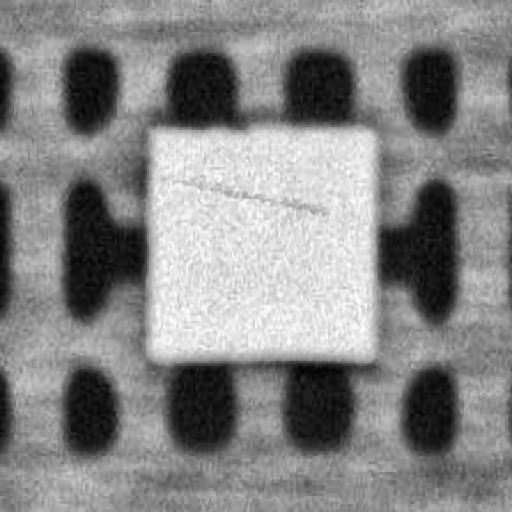DIE_CRACK: (244, 117, 488, 140)
